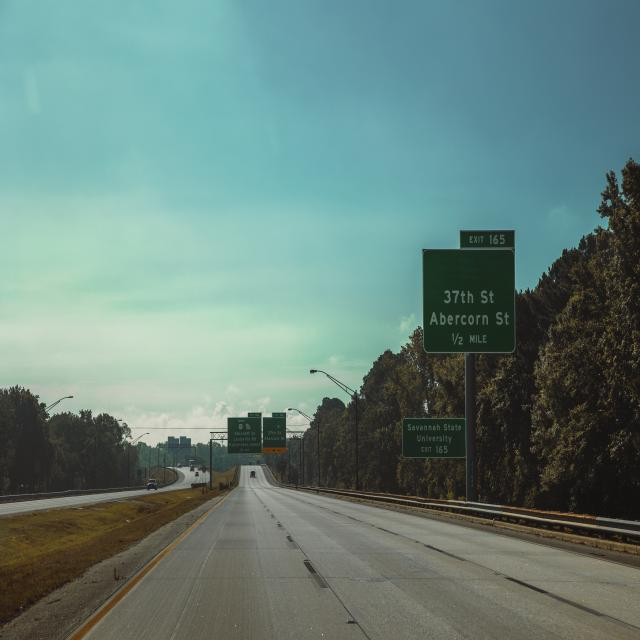Metal: (422, 228, 516, 351), (227, 410, 286, 456), (404, 418, 466, 459)
